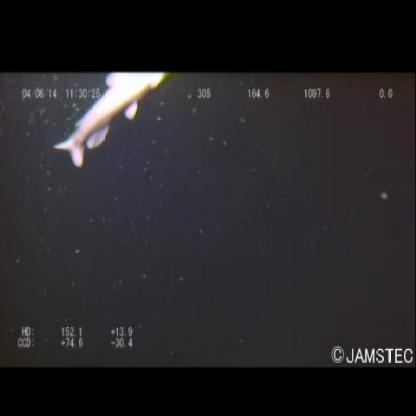Bio: (51, 72, 178, 173)
